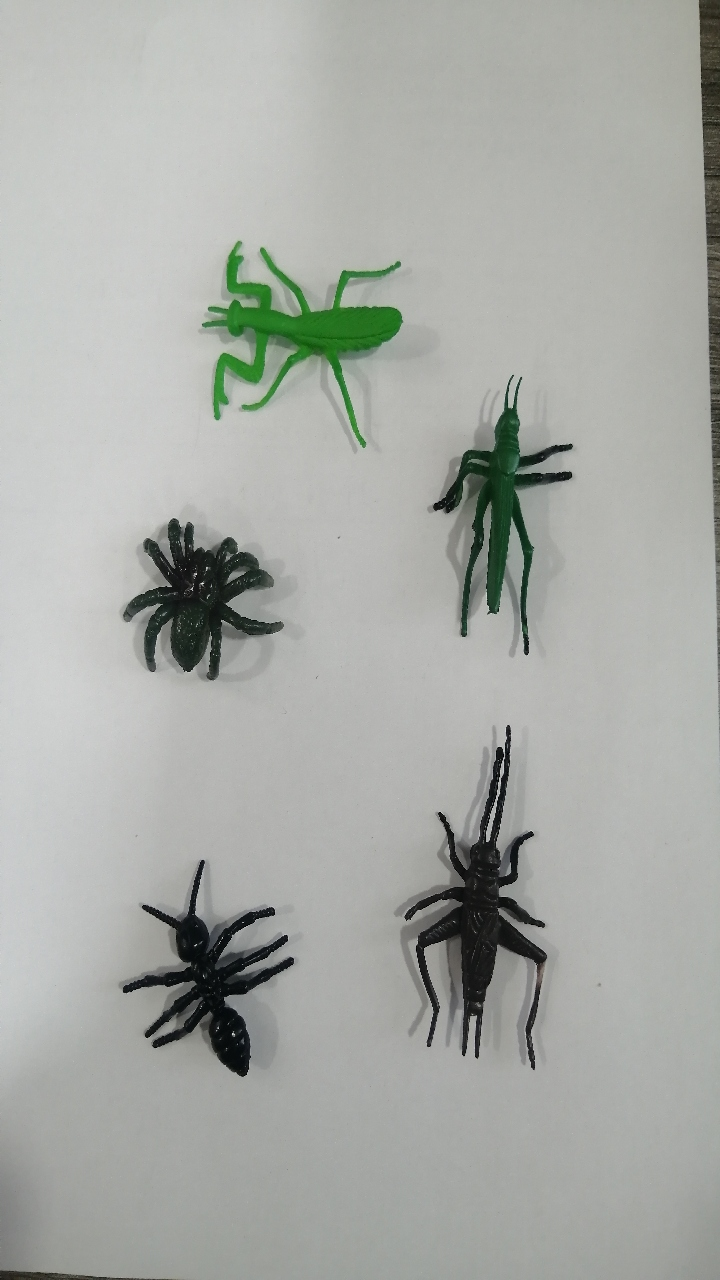intruso: (377, 705, 592, 1095), (163, 205, 426, 482), (403, 362, 600, 677), (98, 825, 314, 1099), (108, 482, 300, 703)
